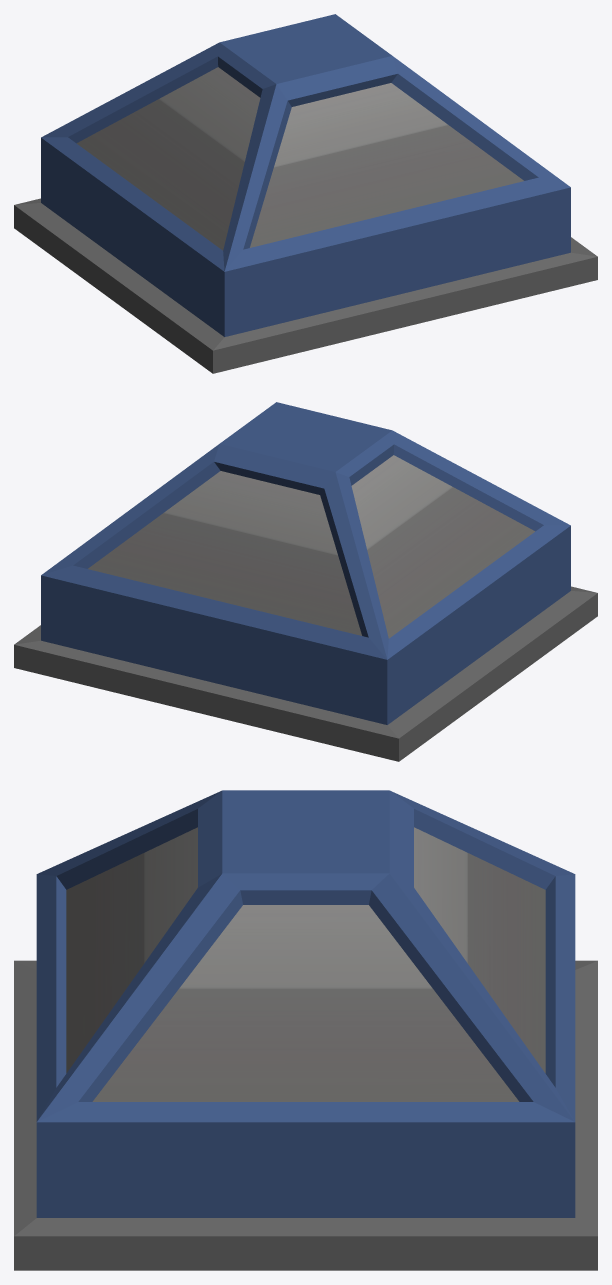
File: RoofLights_3_A.fbx
The picture shows the model from 3 angles, top to bottom: view 1: azimuth 30°, elevation 25°; view 2: azimuth 150°, elevation 25°; view 3: azimuth 270°, elevation 25°; orthographic projection. The views are drawn at different scales.
Parts seen in each view (by area): view 1: RoofLights_3_A; view 2: RoofLights_3_A; view 3: RoofLights_3_A.
Boxes of the visible parts, x1,y1,x2,y2 form: RoofLights_3_A: (14,14,597,373); RoofLights_3_A: (14,402,597,761); RoofLights_3_A: (14,790,597,1270).
Size of the model in its own units: 73.17 by 37.23 by 65.51.
